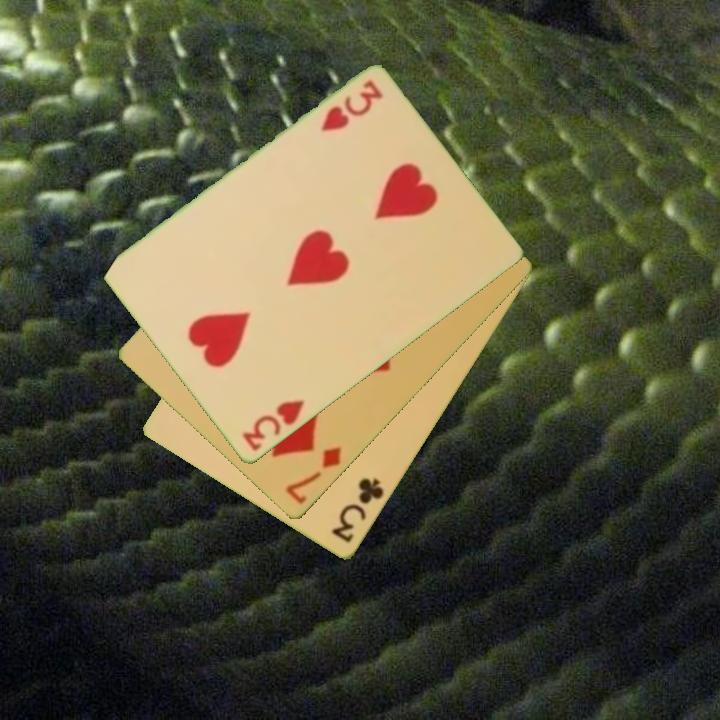3c: (328, 475, 387, 547)
3h: (238, 396, 307, 455), (317, 76, 386, 135)
7d: (282, 443, 345, 508)
